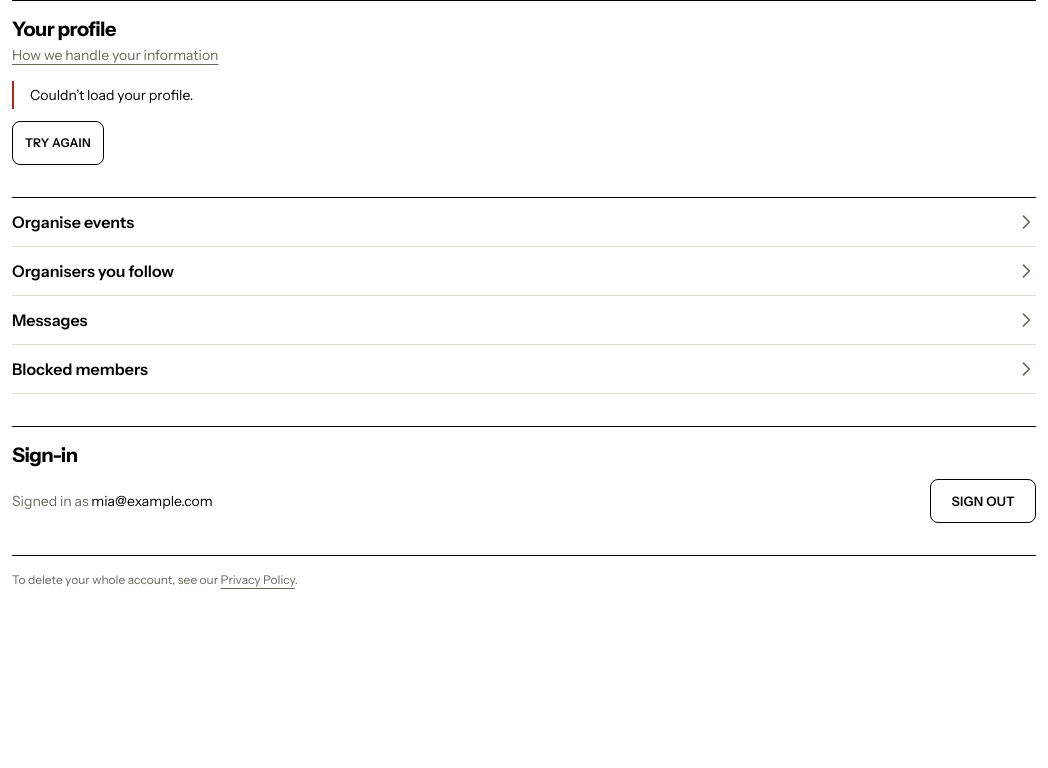
Test: AccountContent › shows a load error with Try again
Expected: the message reads "Couldn’t load your profile.", [30, 86, 193, 104]
Click the button "Try again": (58, 143) [12, 121, 104, 165]
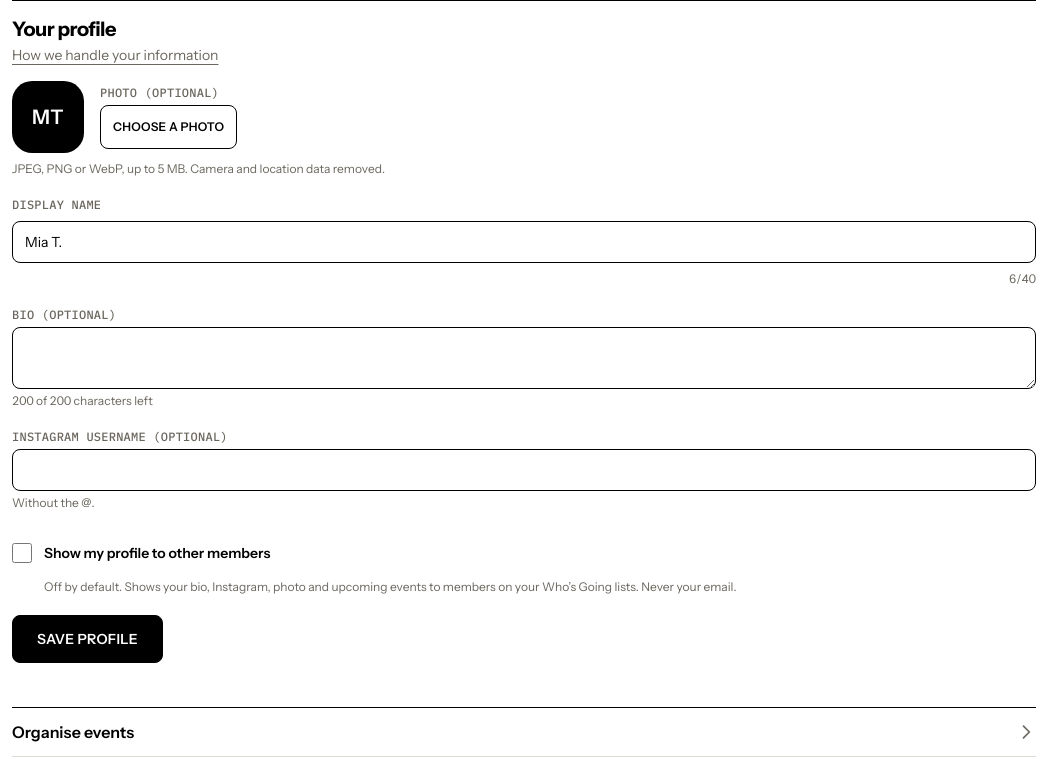
Expected: the field labelled "Display name" holds "Mia T.", [12, 221, 1036, 263]
